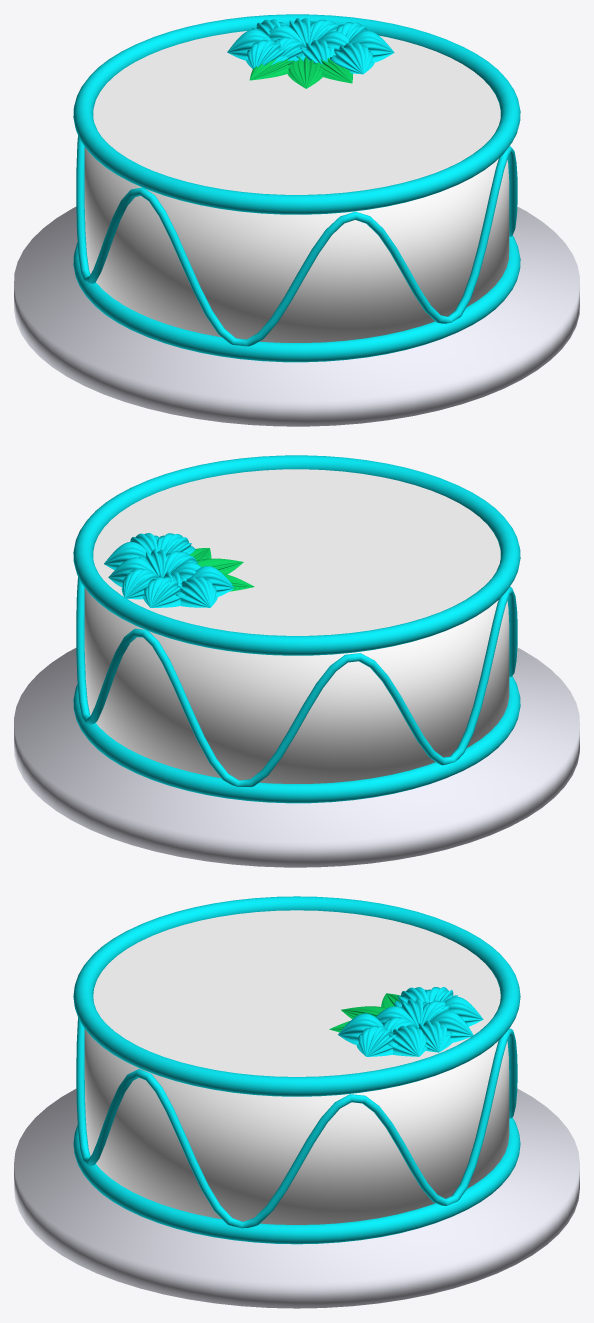
File: round_vanilla_style2.glb
3 renders of one model, top to bottom at view 1: azimuth 30°, elevation 25°; view 2: azimuth 150°, elevation 25°; view 3: azimuth 270°, elevation 25°, orthographic.
Visible parts, largest first — view 1: CakeBase, IcingStand.001, CakeTopCircle, IcingRing.001, IcingRing, WaveIcing, leaf.001, design10, design11, design7, design12, design3; view 2: CakeBase, IcingStand.001, CakeTopCircle, IcingRing.001, IcingRing, WaveIcing, design12, design9, leaf.001, design4, design8, design11 (+2 smaller); view 3: CakeBase, IcingStand.001, CakeTopCircle, IcingRing.001, IcingRing, WaveIcing, design7, design8, design5, design4, design10, leaf.001 (+1 smaller).
Boxes of the visible parts, left/top/right/bottom form: CakeBase: left=84, top=147, right=509, bottom=342; IcingStand.001: left=14, top=206, right=579, bottom=426; CakeTopCircle: left=93, top=31, right=500, bottom=194; IcingRing.001: left=73, top=14, right=520, bottom=214; IcingRing: left=73, top=235, right=520, bottom=362; WaveIcing: left=76, top=135, right=517, bottom=346; leaf.001: left=249, top=57, right=352, bottom=88; design10: left=330, top=42, right=374, bottom=74; design11: left=246, top=39, right=288, bottom=68; design7: left=349, top=30, right=394, bottom=62; design12: left=227, top=29, right=271, bottom=60; design3: left=296, top=40, right=334, bottom=64; CakeBase: left=84, top=588, right=509, bottom=783; IcingStand.001: left=14, top=647, right=579, bottom=867; CakeTopCircle: left=93, top=469, right=500, bottom=635; IcingRing.001: left=73, top=455, right=520, bottom=655; IcingRing: left=73, top=676, right=520, bottom=803; WaveIcing: left=76, top=577, right=517, bottom=786; design12: left=175, top=576, right=217, bottom=607; design9: left=143, top=576, right=185, bottom=607; leaf.001: left=189, top=548, right=254, bottom=591; design4: left=121, top=568, right=159, bottom=599; design8: left=104, top=542, right=150, bottom=570; design11: left=190, top=566, right=233, bottom=596; CakeBase: left=84, top=1029, right=509, bottom=1224; IcingStand.001: left=14, top=1088, right=579, bottom=1308; CakeTopCircle: left=93, top=910, right=500, bottom=1076; IcingRing.001: left=73, top=896, right=520, bottom=1096; IcingRing: left=73, top=1117, right=520, bottom=1244; WaveIcing: left=76, top=1018, right=517, bottom=1228; design7: left=356, top=1025, right=397, bottom=1056; design8: left=387, top=1025, right=427, bottom=1056; design5: left=419, top=1020, right=451, bottom=1052; design4: left=430, top=1011, right=473, bottom=1042; design10: left=338, top=1013, right=383, bottom=1044; leaf.001: left=329, top=993, right=400, bottom=1032.
Size of the model in its own units: 4 by 1.69 by 4.
